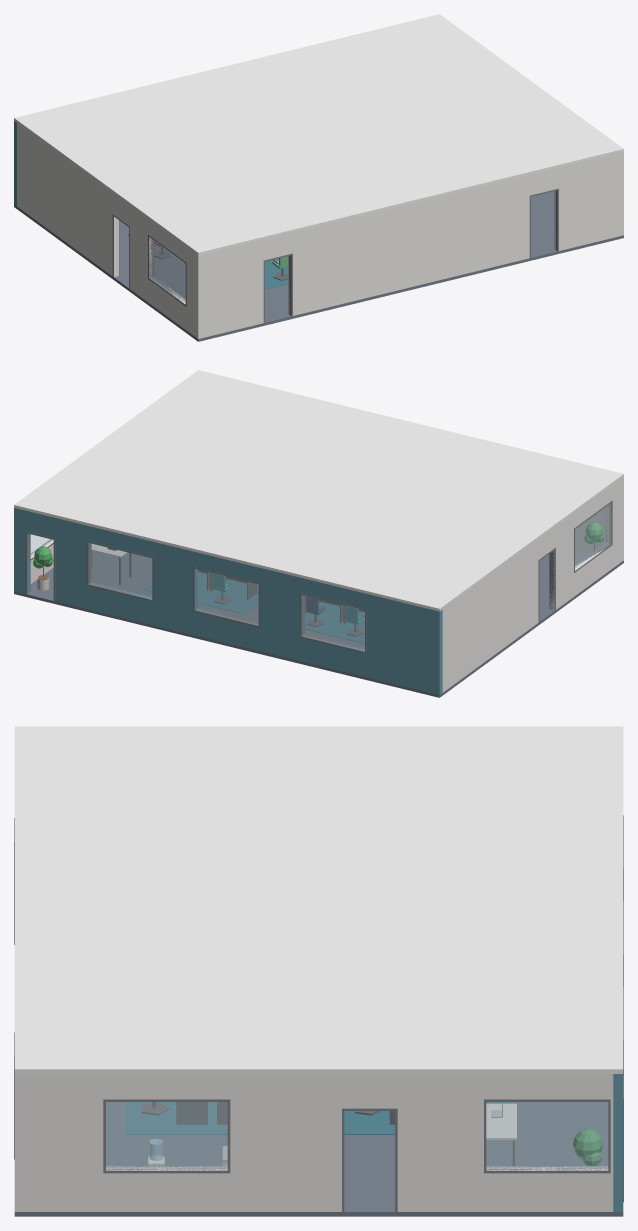
3 renders of one model, top to bottom at view 1: azimuth 30°, elevation 25°; view 2: azimuth 150°, elevation 25°; view 3: azimuth 270°, elevation 25°, orthographic. The views are drawn at different scales.
Visible parts, largest first — view 1: Ceiling, Wall_S, Wall_W, Floor, Frames_W, Frames_S, Rug; view 2: Ceiling, Wall_N, Wall_W, Frames_N, Floor, Frames_W, Rug.003, Rug.001, Wall_S, Plant.002; view 3: Ceiling, Wall_E, Frames_E, Floor, Rug.002, Wall_N, Wall_S, StandingTable, Rug.003, Plant.002, Desk_10.
Boxes of the visible parts, x1=… form: Ceiling: x1=14, y1=14, x2=623, y2=255; Wall_S: x1=195, y1=152, x2=623, y2=338; Wall_W: x1=17, y1=123, x2=195, y2=336; Floor: x1=14, y1=191, x2=623, y2=341; Frames_W: x1=112, y1=214, x2=186, y2=306; Frames_S: x1=263, y1=188, x2=558, y2=322; Rug: x1=265, y1=258, x2=288, y2=289; Ceiling: x1=14, y1=370, x2=623, y2=611; Wall_N: x1=14, y1=508, x2=442, y2=694; Wall_W: x1=442, y1=479, x2=620, y2=692; Frames_N: x1=25, y1=531, x2=366, y2=653; Floor: x1=14, y1=551, x2=623, y2=697; Frames_W: x1=538, y1=500, x2=612, y2=622; Rug.003: x1=144, y1=572, x2=258, y2=614; Rug.001: x1=304, y1=602, x2=364, y2=643; Wall_S: x1=575, y1=477, x2=623, y2=561; Plant.002: x1=33, y1=546, x2=53, y2=590; Ceiling: x1=14, y1=726, x2=623, y2=1073; Wall_E: x1=24, y1=1074, x2=613, y2=1211; Frames_E: x1=103, y1=1099, x2=610, y2=1212; Floor: x1=14, y1=1102, x2=623, y2=1216; Rug.002: x1=126, y1=1102, x2=227, y2=1134; Wall_N: x1=613, y1=1074, x2=623, y2=1211; Wall_S: x1=14, y1=1074, x2=24, y2=1211; StandingTable: x1=486, y1=1103, x2=516, y2=1166; Rug.003: x1=344, y1=1102, x2=511, y2=1134; Plant.002: x1=573, y1=1128, x2=602, y2=1166; Desk_10: x1=176, y1=1102, x2=207, y2=1124.
Size of the model in its own units: 16.02 by 3.2 by 12.02.
